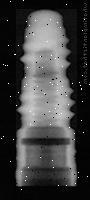DENTSPLY: (16, 9, 77, 186)
